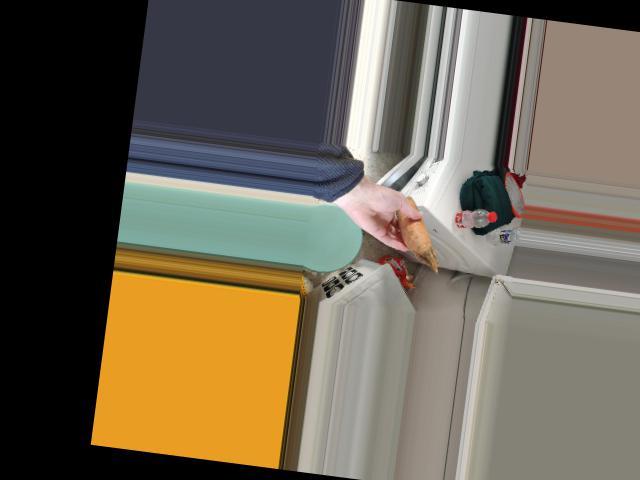sweet_potato: (386, 201, 436, 252)
